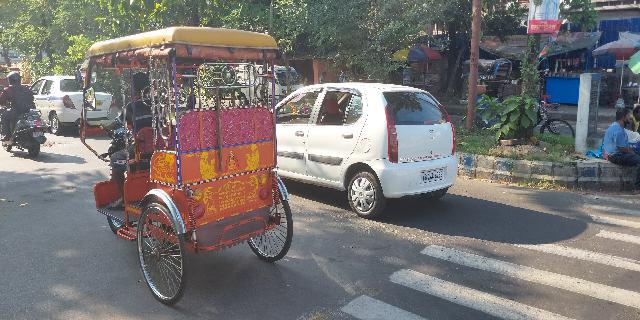Car: (271, 75, 468, 221), (29, 68, 111, 135)
Motorbike: (3, 69, 51, 157)
Rickshaw: (80, 25, 299, 307)
